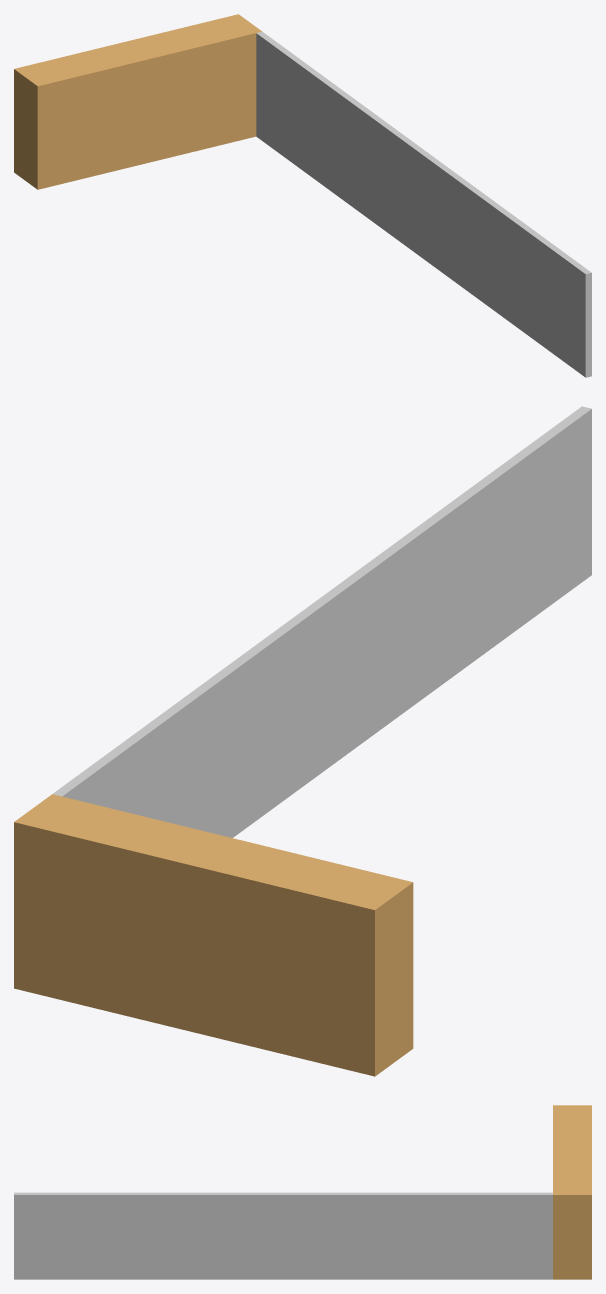
File: SM_RM2_Pillar.fbx
3 views of the same model, one above another, from view 1: azimuth 30°, elevation 25°; view 2: azimuth 150°, elevation 25°; view 3: azimuth 270°, elevation 25° (orthographic). The views are drawn at different scales.
Parts seen in each view (by area): view 1: SM_RM2_Pillar; view 2: SM_RM2_Pillar; view 3: SM_RM2_Pillar.
Part boxes in pixels (x1,y1,x2,y2): SM_RM2_Pillar: (14, 14, 591, 377); SM_RM2_Pillar: (14, 406, 591, 1076); SM_RM2_Pillar: (14, 1105, 591, 1279).
Bounding box in the file's own units: 109 × 48 × 297.
